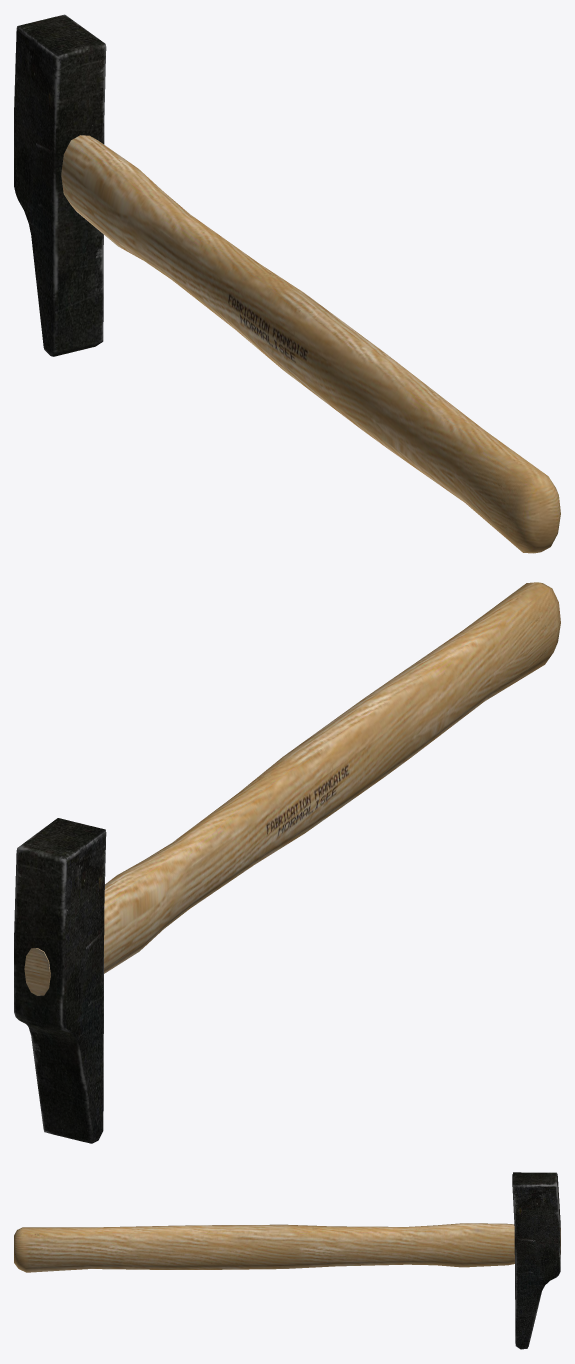
File: hammer3dc.obj
The picture shows the model from 3 angles, top to bottom: view 1: azimuth 30°, elevation 25°; view 2: azimuth 150°, elevation 25°; view 3: azimuth 270°, elevation 25°; orthographic projection. The views are drawn at different scales.
Visible parts, largest first — view 1: handle, head; view 2: handle, head; view 3: handle, head.
Part boxes in pixels (x1,y1,x2,y2): handle: (61,135,560,553); head: (14,14,106,356); handle: (24,582,560,995); head: (14,818,106,1143); handle: (14,1223,560,1272); head: (512,1172,560,1349).
Bounding box in the file's own units: 5.4 × 31.75 × 94.85.
